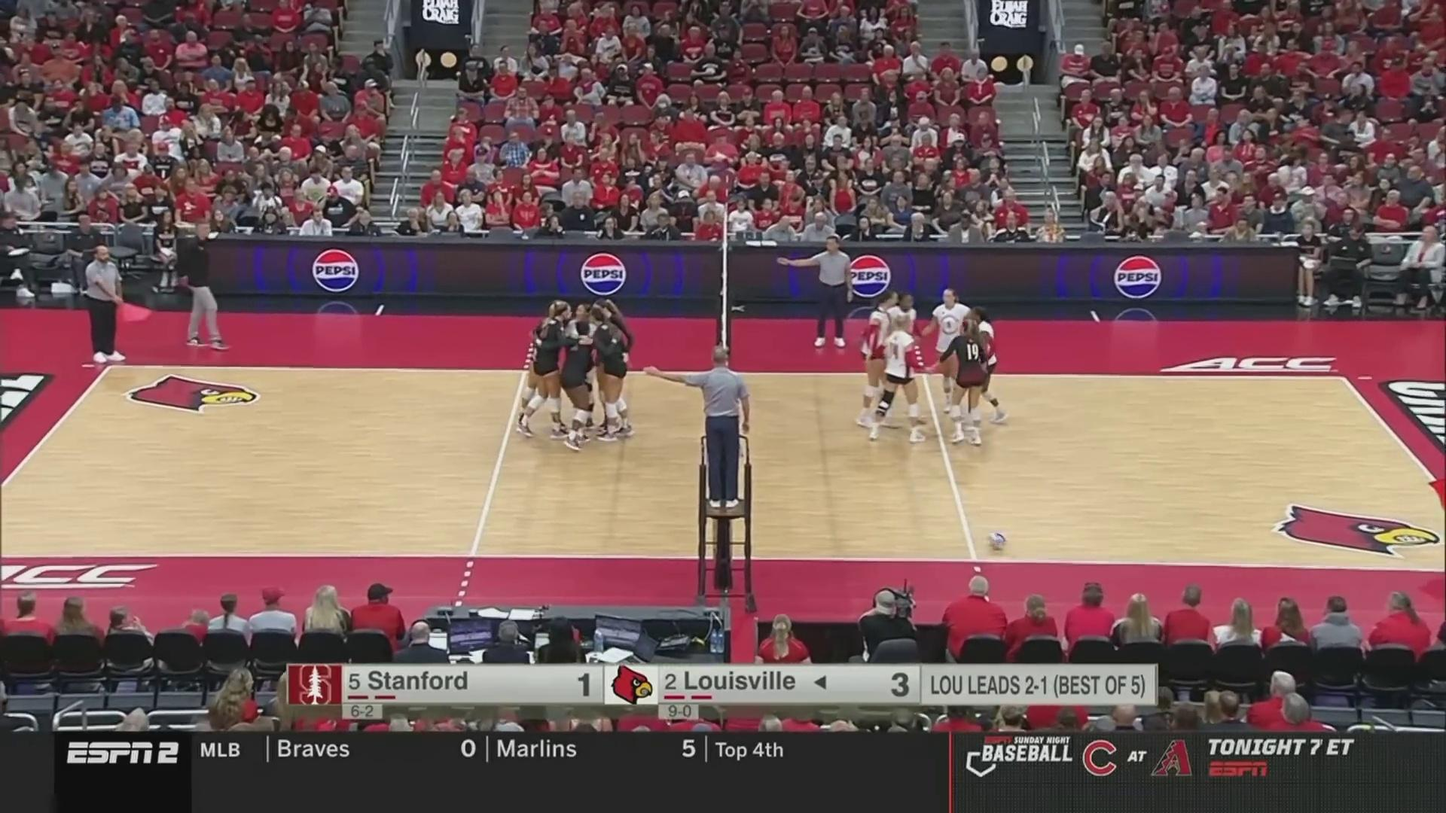player: (524, 301, 575, 441), (954, 305, 1009, 427), (873, 315, 923, 443), (936, 321, 986, 446), (517, 303, 566, 426), (927, 289, 974, 413), (858, 291, 900, 427), (590, 311, 633, 437), (591, 297, 631, 423), (880, 293, 919, 401), (563, 318, 594, 449), (568, 298, 598, 423)
refree: (672, 350, 754, 508), (790, 237, 853, 347), (83, 242, 128, 363)
